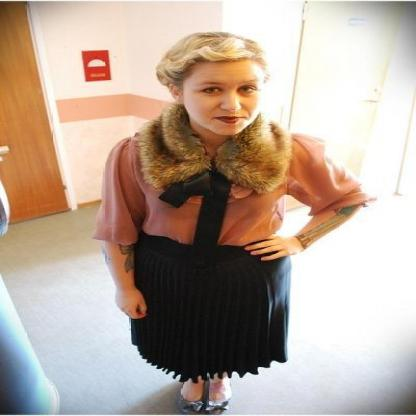shirt: (92, 141, 360, 250)
shoe: (178, 391, 228, 415)
skirt: (128, 230, 290, 386)
